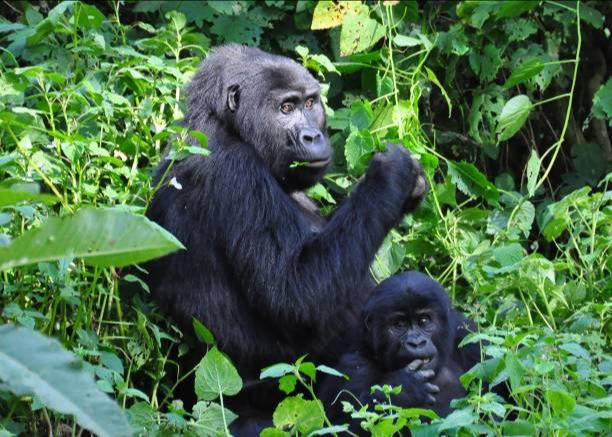goriile_montagne: (157, 9, 426, 390), (324, 262, 507, 430)
